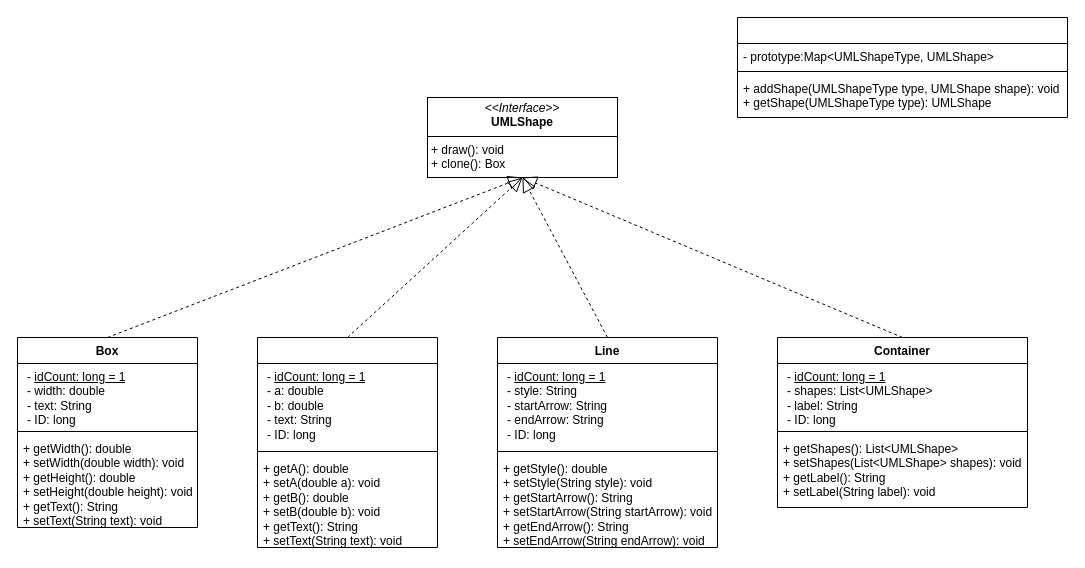
This 1085x568 diagram has some shape labels left out. Here are the shapes that lost their labels. From the top down, the box of each, then its label:
(736, 16, 1068, 118): UMLShapeCollection
(256, 336, 438, 548): Ellipse
